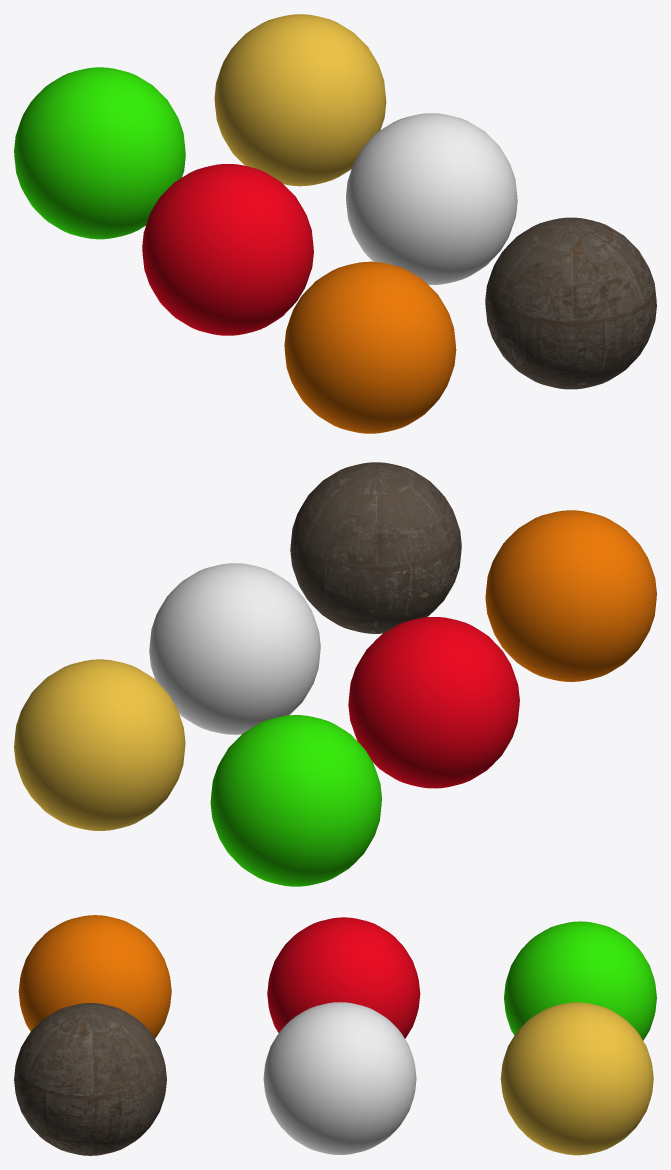
File: rat.glb
3 views of the same model, one above another, from view 1: azimuth 30°, elevation 25°; view 2: azimuth 150°, elevation 25°; view 3: azimuth 270°, elevation 25° (orthographic). The views are drawn at different scales.
Visible parts, largest first — view 1: Sphere.004, Sphere.002, Sphere.005, Sphere, Sphere.003, Sphere.001; view 2: Sphere.005, Sphere, Sphere.003, Sphere.004, Sphere.002, Sphere.001; view 3: Sphere.002, Sphere.001, Sphere, Sphere.005, Sphere.004, Sphere.003.
Boxes of the visible parts, x1=… form: Sphere.004: x1=142, y1=164, x2=313, y2=335; Sphere.002: x1=485, y1=217, x2=656, y2=389; Sphere.005: x1=284, y1=261, x2=456, y2=433; Sphere: x1=214, y1=14, x2=386, y2=186; Sphere.003: x1=14, y1=67, x2=185, y2=239; Sphere.001: x1=346, y1=113, x2=517, y2=284; Sphere.005: x1=485, y1=510, x2=656, y2=681; Sphere: x1=14, y1=659, x2=185, y2=830; Sphere.003: x1=210, y1=715, x2=381, y2=886; Sphere.004: x1=348, y1=617, x2=519, y2=788; Sphere.002: x1=290, y1=462, x2=461, y2=633; Sphere.001: x1=149, y1=563, x2=320, y2=734; Sphere.002: x1=14, y1=1003, x2=166, y2=1155; Sphere.001: x1=263, y1=1002, x2=416, y2=1154; Sphere: x1=500, y1=1002, x2=653, y2=1155; Sphere.005: x1=18, y1=915, x2=171, y2=1038; Sphere.004: x1=267, y1=917, x2=420, y2=1038; Sphere.003: x1=504, y1=921, x2=656, y2=1040.
Bounding box in the file's own units: 0.4731 × 0.2076 × 0.84.
Materials: 6 (1 with a texture image).
